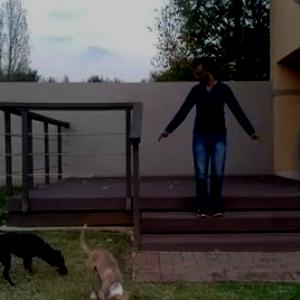land: (164, 56, 256, 227)
